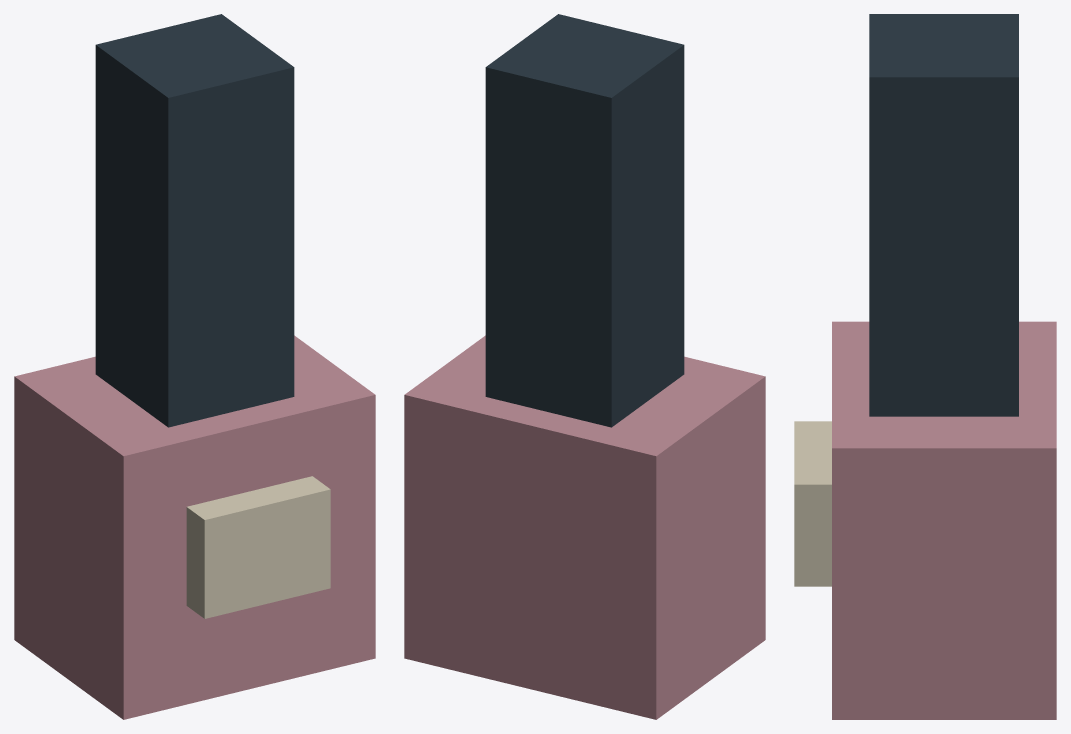
The model's file is beauty-05.glb.
The picture shows the model from 3 angles, left to right: view 1: azimuth 30°, elevation 25°; view 2: azimuth 150°, elevation 25°; view 3: azimuth 270°, elevation 25°; orthographic projection. The views are drawn at different scales.
Parts seen in each view (by area): view 1: Nail polish; view 2: Nail polish; view 3: Nail polish.
Part boxes in pixels (left/top/right/bottom): Nail polish: left=14, top=14, right=375, bottom=719; Nail polish: left=404, top=14, right=765, bottom=719; Nail polish: left=794, top=14, right=1056, bottom=719.
Size of the model in its own units: 0.64 by 1.44 by 0.56.
